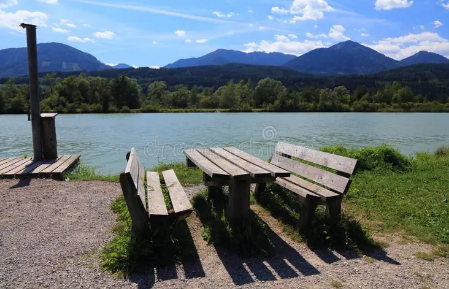obstacle: (117, 137, 359, 263)
